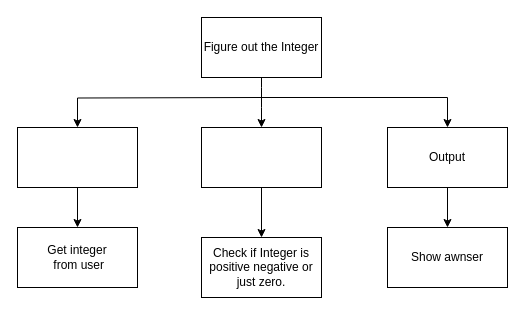
This 525x315 diagram has some shape labels left out. Here are the shapes that lost their labels. From the top down, the centre of each, then its label:
(x=77, y=157): Input
(x=261, y=157): Process
